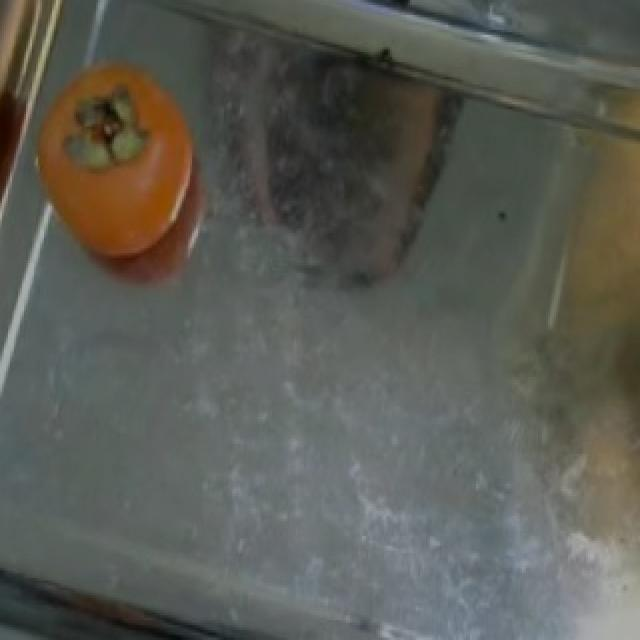Fruit: (10, 40, 216, 282)
